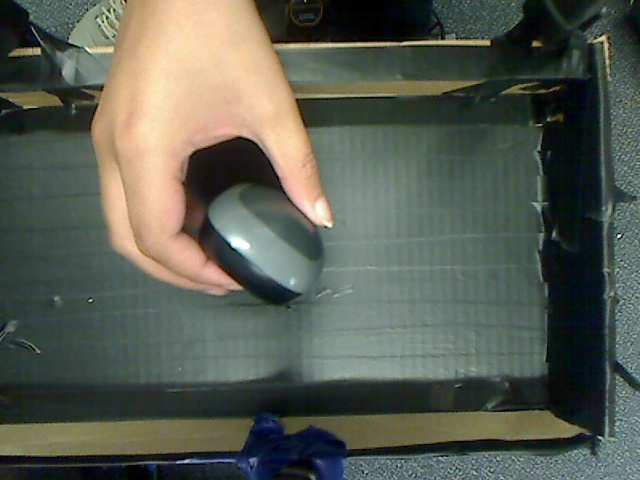mouse: (191, 171, 343, 306)
